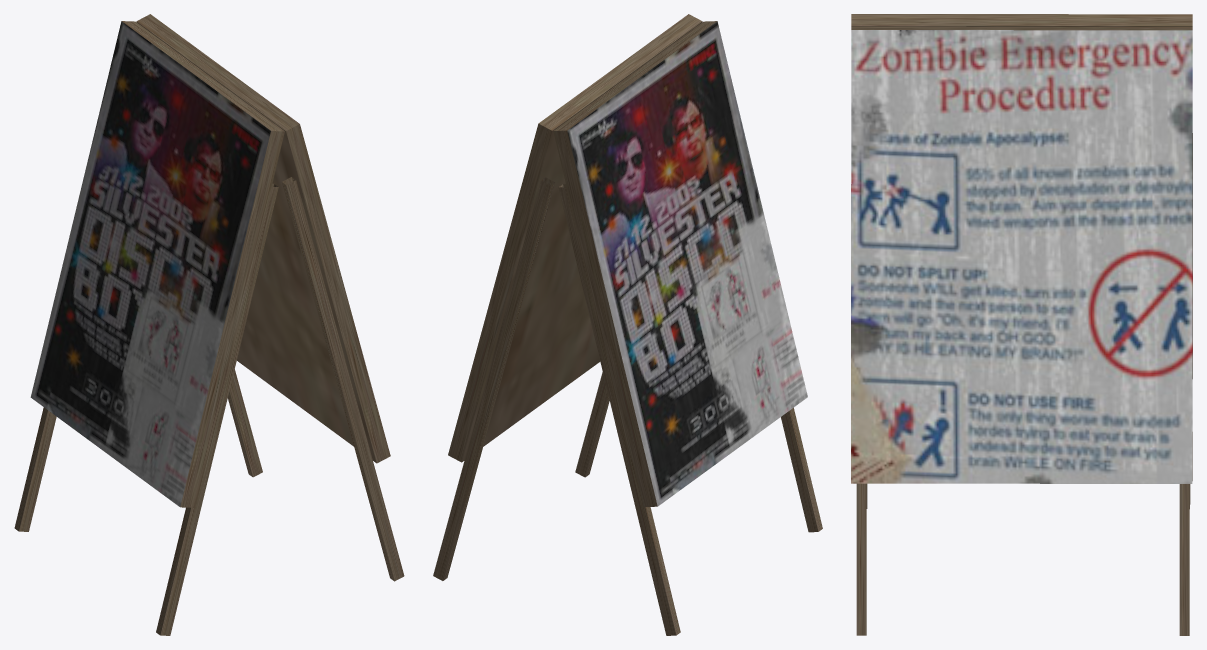
File: schild2.obj
3 renders of one model, left to right at view 1: azimuth 30°, elevation 25°; view 2: azimuth 150°, elevation 25°; view 3: azimuth 270°, elevation 25°, orthographic. The views are drawn at different scales.
Visible parts, largest first — view 1: polySurface7; view 2: polySurface7; view 3: polySurface7.
Boxes of the visible parts, x1,y1,x2,y2 form: polySurface7: [14, 14, 404, 635]; polySurface7: [433, 14, 822, 635]; polySurface7: [851, 14, 1192, 635].
Bounding box in the file's own units: 0.4047 × 0.7642 × 0.431.
Materials: 1 (1 with a texture image).
